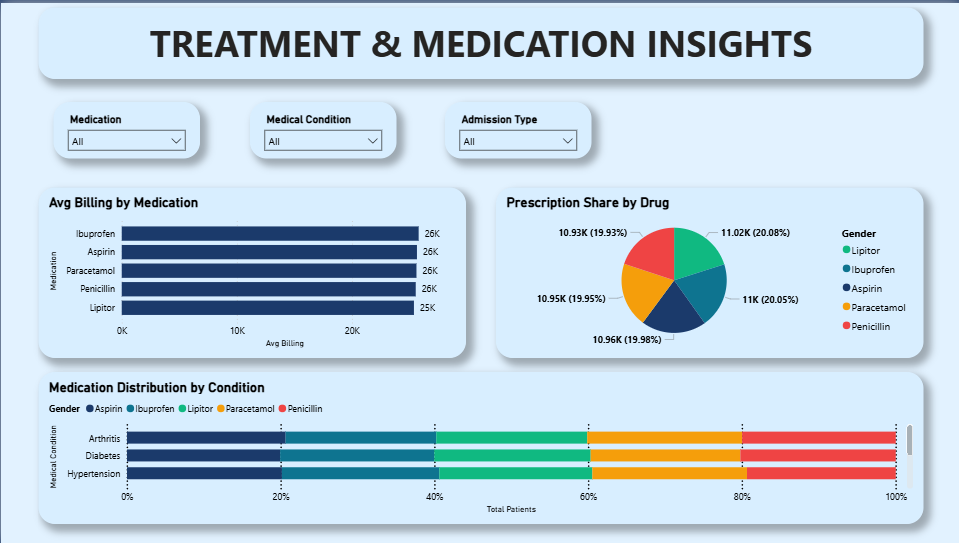

What the dashboard file says about the page in this screenshot:
{"tool":"powerbi","page":{"name":"Page 4","canvas":[1280,720],"ordinal":3},"visuals":[{"type":"pieChart","title":"Prescription Share by Drug","fields":{"Category":["healthcare_final_clean.medication"],"Y":["CountNonNull(healthcare_final_clean.medication)"]},"box":[660,245,570,227.5],"z":0},{"type":"slicer","fields":{"Values":["healthcare_final_clean.medication"]},"box":[70,132.5,195,75],"z":1000},{"type":"slicer","fields":{"Values":["healthcare_final_clean.admission_type"]},"box":[592.5,132.5,195,75],"z":2000},{"type":"slicer","fields":{"Values":["healthcare_final_clean.medical_condition"]},"box":[331.2,132.5,195,75],"z":3000},{"type":"textbox","box":[50,5,1180,95],"z":4000},{"type":"clusteredBarChart","title":"Avg Billing by Medication","fields":{"Category":["healthcare_final_clean.medication"],"Y":["healthcare_final_clean.Avg Billing"]},"box":[50,245,570,227.5],"z":5000},{"type":"hundredPercentStackedBarChart","title":"Medication Distribution by Condition","fields":{"Category":["healthcare_final_clean.medical_condition"],"Y":["healthcare_final_clean.Total Patients"],"Series":["healthcare_final_clean.medication"]},"box":[50,492.5,1180,202.5],"z":6000}]}

Visuals, with their boxes in screenshot pixels (x1, y1, x2, y2), scaled from the page's 1280x720 canvas onto the 959x543 screenshot:
"Prescription Share by Drug" pieChart: [x1=494, y1=185, x2=922, y2=356]
slicer - healthcare_final_clean.medication: [x1=52, y1=100, x2=199, y2=156]
slicer - healthcare_final_clean.admission_type: [x1=444, y1=100, x2=590, y2=156]
slicer - healthcare_final_clean.medical_condition: [x1=248, y1=100, x2=394, y2=156]
textbox: [x1=37, y1=4, x2=922, y2=75]
"Avg Billing by Medication" clusteredBarChart: [x1=37, y1=185, x2=465, y2=356]
"Medication Distribution by Condition" hundredPercentStackedBarChart: [x1=37, y1=371, x2=922, y2=524]
